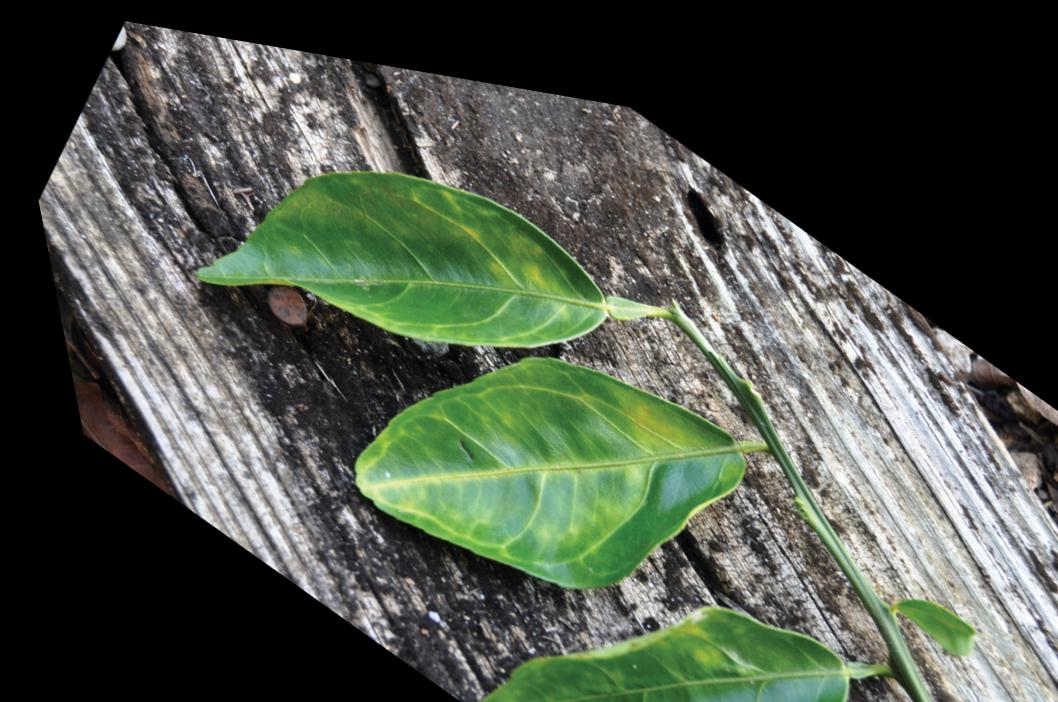Citrus Greening: (138, 22, 662, 520), (279, 203, 787, 702), (384, 419, 868, 702)
